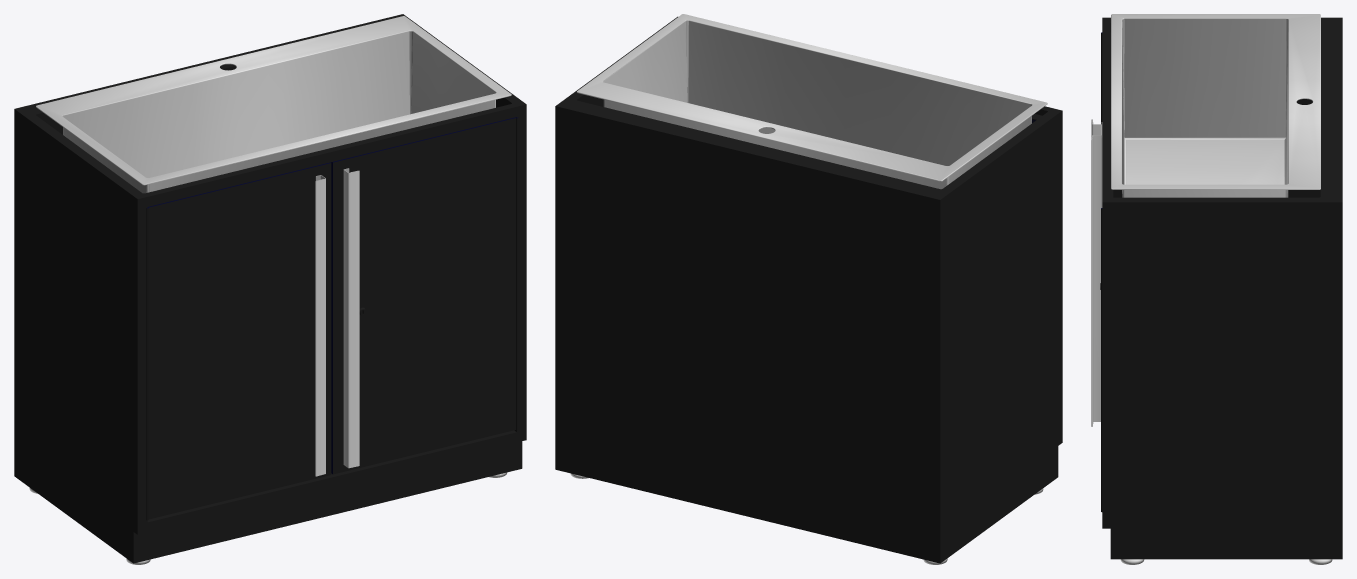
The model's file is sinkBase.glb.
3 renders of one model, left to right at view 1: azimuth 30°, elevation 25°; view 2: azimuth 150°, elevation 25°; view 3: azimuth 270°, elevation 25°, orthographic. The views are drawn at different scales.
Visible parts, largest first — view 1: doors, shellFp, sink, handlesFp, hingeFp; view 2: shellFp, sink; view 3: shellFp, sink, handlesFp, hingeFp.
Part boxes in pixels (left/top/right/bottom): doors: left=146, top=117, right=518, bottom=519; shellFp: left=14, top=14, right=526, bottom=563; sink: left=36, top=16, right=511, bottom=193; handlesFp: left=315, top=168, right=359, bottom=476; hingeFp: left=146, top=118, right=518, bottom=520; shellFp: left=555, top=16, right=1062, bottom=563; sink: left=576, top=14, right=1047, bottom=189; shellFp: left=1102, top=17, right=1342, bottom=559; sink: left=1111, top=14, right=1320, bottom=197; handlesFp: left=1091, top=119, right=1102, bottom=426; hingeFp: left=1101, top=33, right=1102, bottom=511.
Size of the model in its own units: 1.02 by 0.9603 by 0.5842.
Materials: 5 (2 with a texture image).
